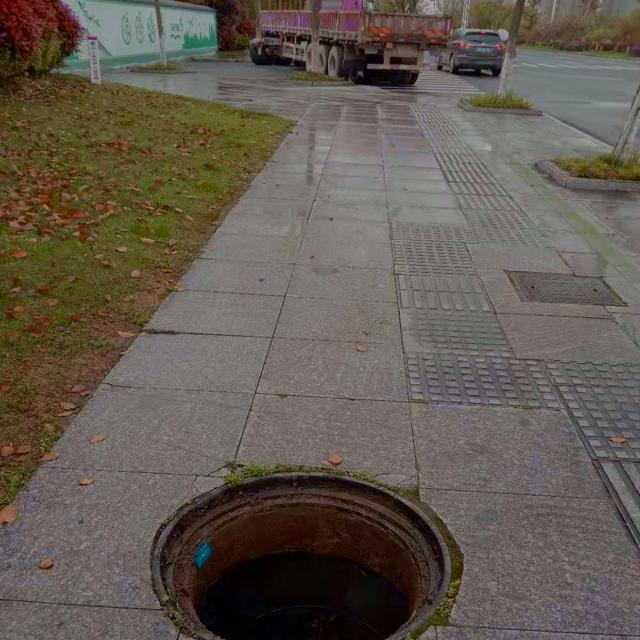good: (506, 270, 626, 305)
lose: (153, 469, 453, 640)
